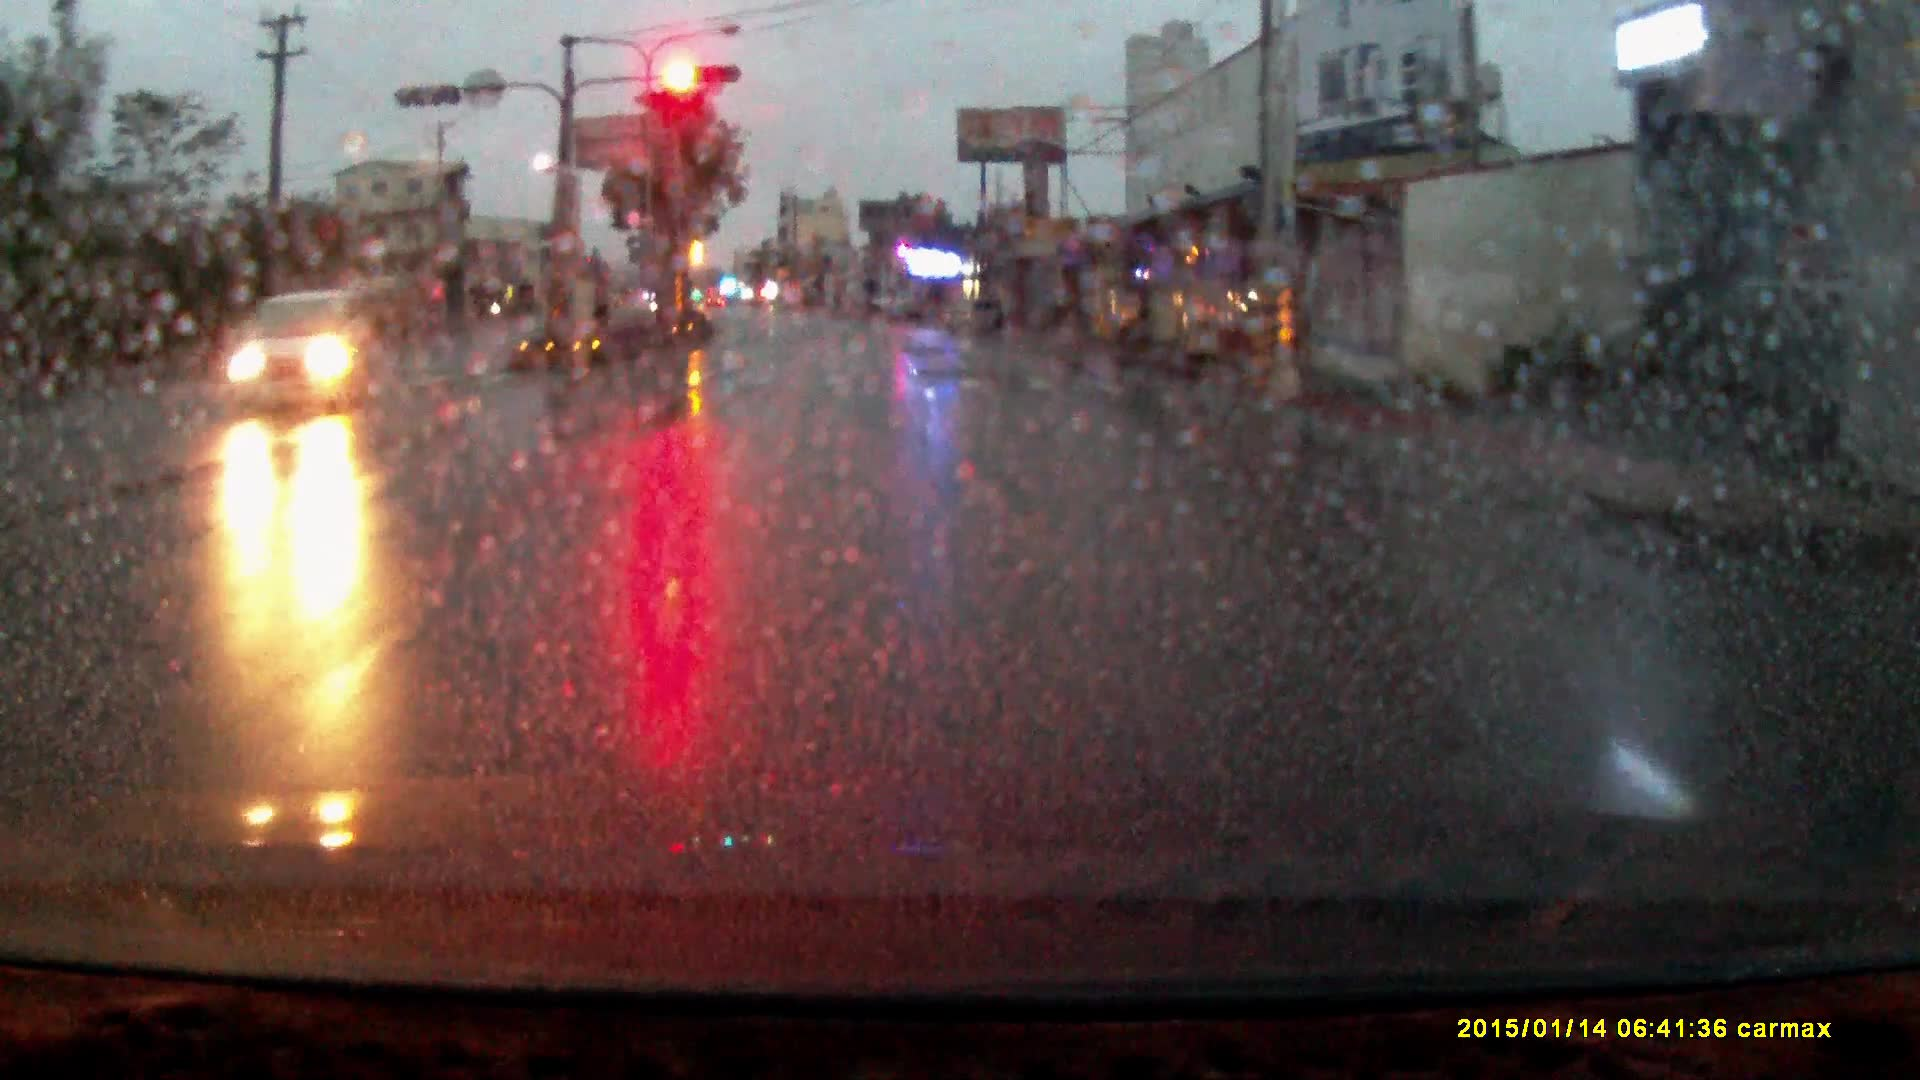vehicle: (219, 287, 375, 417)
